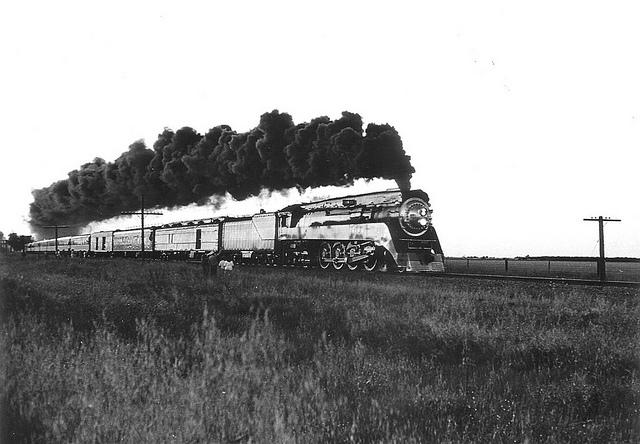Train: (22, 192, 446, 273)
